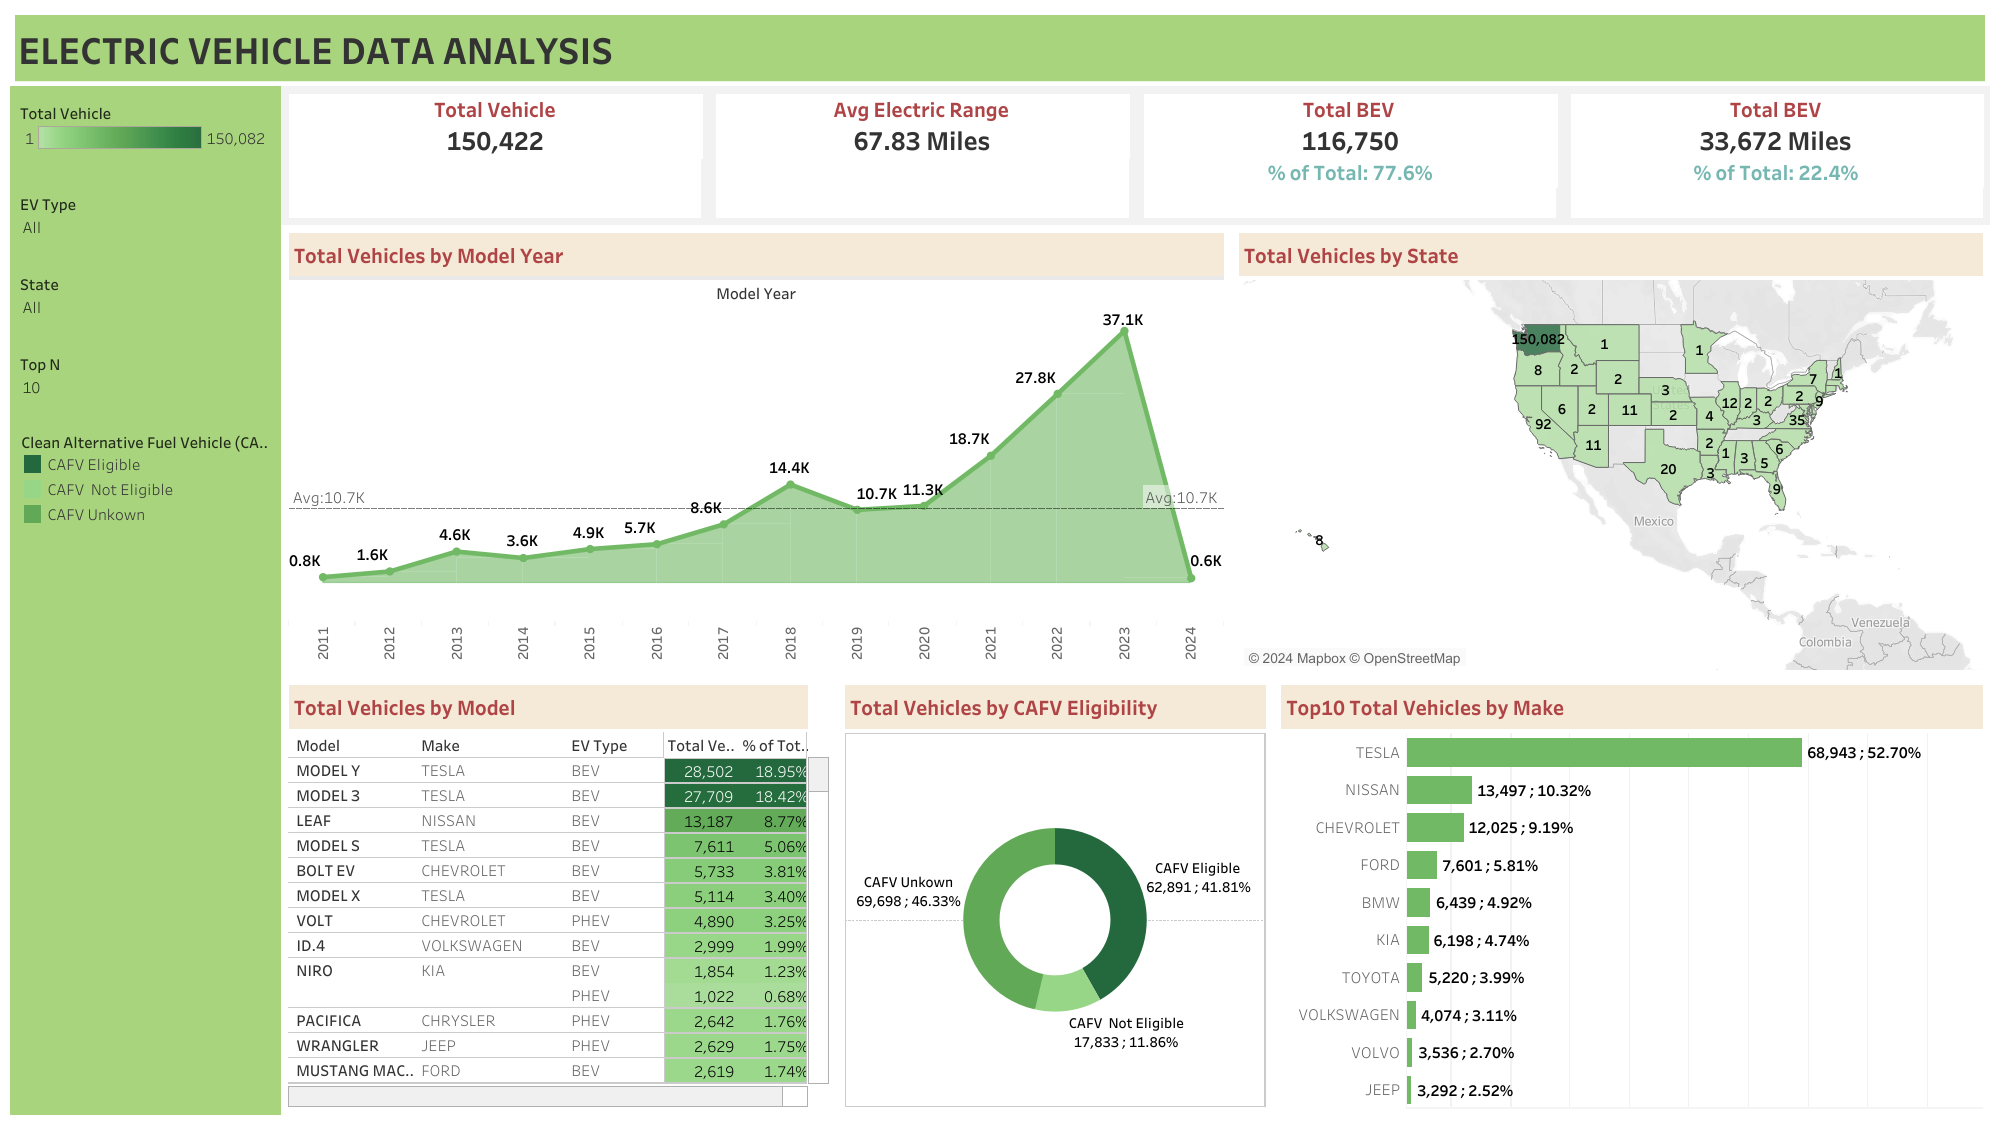

What the dashboard file says about the page in this screenshot:
{"tool":"tableau","page":{"name":"Dashboard 1","canvas":[1600,900],"ordinal":0},"visuals":[{"type":"title","box":[8,8,1584,60.9]},{"type":"legend","title":"Total Vehicles by State","param":"[federated.0jg4htg1wh00tk1awl9y31wnmju2].[usr:Calculation_1612007220285931520:qk","box":[8,68.9,216.9,81]},{"type":"worksheet","title":"Total Vehicle","mark":"Automatic","box":[225,69,342,111]},{"type":"worksheet","title":"Avg Electric Range","mark":"Automatic","box":[567,69,342,111]},{"type":"worksheet","title":"Total BEV","mark":"Automatic","box":[909,69,342,111]},{"type":"worksheet","title":"Total PHEV","mark":"Automatic","box":[1251,69,341,111]},{"type":"filter","title":"Top 10 Total Vehicles by Make","param":"[federated.0jg4htg1wh00tk1awl9y31wnmju2].[none:Electric Vehicle Type:nk]","box":[8,149.9,216.9,61]},{"type":"worksheet","title":"Total Vehicles by Model Year","mark":"Area","rows":["Calculation_1612007220285931520","Calculation_1612007220285931520"],"cols":["Model Year"],"box":[224.9,179.9,760,362]},{"type":"worksheet","title":"Total Vehicles by State","mark":"Multipolygon","box":[984.9,179.9,607.1,362]},{"type":"filter","title":"Top 10 Total Vehicles by Make","param":"[federated.0jg4htg1wh00tk1awl9y31wnmju2].[none:State:nk]","box":[8,211,216.9,61]},{"type":"parameter","param":"[Parameters].[Parameter 1]","box":[8,272,216.9,56]},{"type":"legend","title":"Total Vehicles by CAFV Eligibility","param":"[federated.0jg4htg1wh00tk1awl9y31wnmju2].[none:Clean Alternative Fuel Vehicle (C","box":[8,328,216.9,101]},{"type":"worksheet","title":"Total Vehicles by Model","mark":"Square","rows":["Model","Make","Electric Vehicle Type"],"box":[224.9,541.9,445,350.1]},{"type":"worksheet","title":"Total Vehicles by CAFV Eligibility","mark":"Pie","rows":["Calculation_1612007220321730568","Calculation_1612007220321730568"],"box":[669.9,541.9,349,350.1]},{"type":"worksheet","title":"Top 10 Total Vehicles by Make","mark":"Automatic","rows":["Make"],"cols":["Calculation_1612007220285931520"],"box":[1018.9,541.9,573.1,350.1]}]}

Visuals, with their boxes in screenshot pixels (x1, y1, x2, y2), scaled from the page's 1600x900 canvas onto the 1999x1124 screenshot:
title: crop(10, 10, 1989, 86)
"Total Vehicles by State" legend: crop(10, 86, 281, 187)
"Total Vehicle" worksheet: crop(281, 86, 708, 225)
"Avg Electric Range" worksheet: crop(708, 86, 1136, 225)
"Total BEV" worksheet: crop(1136, 86, 1563, 225)
"Total PHEV" worksheet: crop(1563, 86, 1989, 225)
"Top 10 Total Vehicles by Make" filter: crop(10, 187, 281, 263)
"Total Vehicles by Model Year" worksheet (Area marks): crop(281, 225, 1231, 677)
"Total Vehicles by State" worksheet (Multipolygon marks): crop(1231, 225, 1989, 677)
"Top 10 Total Vehicles by Make" filter: crop(10, 264, 281, 340)
parameter: crop(10, 340, 281, 410)
"Total Vehicles by CAFV Eligibility" legend: crop(10, 410, 281, 536)
"Total Vehicles by Model" worksheet (Square marks): crop(281, 677, 837, 1114)
"Total Vehicles by CAFV Eligibility" worksheet (Pie marks): crop(837, 677, 1273, 1114)
"Top 10 Total Vehicles by Make" worksheet: crop(1273, 677, 1989, 1114)
